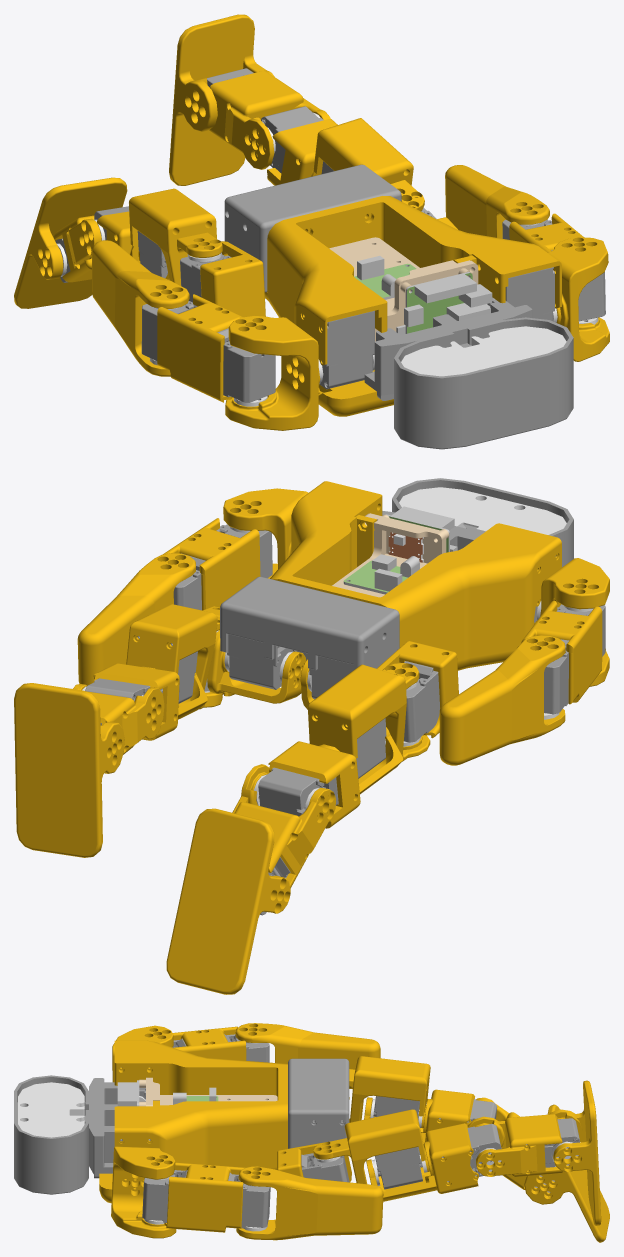
The model's file is zeroth01-opus-v-cbb18739.glb.
The picture shows the model from 3 angles, top to bottom: view 1: azimuth 30°, elevation 25°; view 2: azimuth 150°, elevation 25°; view 3: azimuth 270°, elevation 25°; orthographic projection. The views are drawn at different scales.
Visible parts, largest first — view 1: Torso, Head, foot_left, shoulder_yaw_right, hip_pitch_dual_carry, foot_right, Left Hand, elbow_bracket_left, ankle_pitch_left, hip_roll_right, hand_right, Mounting Back plate (+18 smaller); view 2: Torso, foot_left, foot_right, hip_pitch_dual_carry, Left Hand, knee_pitch_right (×2), hip_roll_right, hand_right, hip_roll_left, ankle_pitch_right, elbow_bracket_right, Mounting Back plate (+21 smaller); view 3: Torso, hand_right, knee_pitch_right (×2), hip_pitch_dual_carry, Head, elbow_bracket_right, ankle_pitch_left, shoulder_yaw_left, hip_roll_left, Left Hand, hip_roll_right, Mounting Back plate (+19 smaller).
Boxes of the visible parts, x1=… form: Torso: x1=264, y1=196, x2=561, y2=416; Head: x1=394, y1=317, x2=573, y2=449; foot_left: x1=169, y1=14, x2=274, y2=185; shoulder_yaw_right: x1=225, y1=315, x2=320, y2=430; hip_pitch_dual_carry: x1=224, y1=164, x2=401, y2=292; foot_right: x1=14, y1=177, x2=127, y2=308; Left Hand: x1=92, y1=240, x2=189, y2=376; elbow_bracket_left: x1=157, y1=294, x2=242, y2=402; ankle_pitch_left: x1=208, y1=70, x2=330, y2=169; hip_roll_right: x1=129, y1=188, x2=222, y2=285; hand_right: x1=445, y1=165, x2=549, y2=238; Mounting Back plate: x1=401, y1=326, x2=566, y2=376; Torso: x1=270, y1=481, x2=561, y2=670; foot_left: x1=14, y1=683, x2=124, y2=857; foot_right: x1=166, y1=808, x2=290, y2=994; hip_pitch_dual_carry: x1=220, y1=576, x2=399, y2=669; Left Hand: x1=439, y1=635, x2=565, y2=765; knee_pitch_right (×2): x1=93, y1=663, x2=403, y2=828; hip_roll_right: x1=307, y1=663, x2=430, y2=761; hand_right: x1=77, y1=553, x2=195, y2=685; hip_roll_left: x1=126, y1=604, x2=222, y2=709; ankle_pitch_right: x1=232, y1=764, x2=335, y2=888; elbow_bracket_right: x1=163, y1=518, x2=260, y2=610; Mounting Back plate: x1=399, y1=487, x2=566, y2=534; Torso: x1=99, y1=1040, x2=287, y2=1203; hand_right: x1=236, y1=1166, x2=383, y2=1240; knee_pitch_right (×2): x1=364, y1=1089, x2=478, y2=1201; hip_pitch_dual_carry: x1=288, y1=1058, x2=349, y2=1148; Head: x1=14, y1=1075, x2=88, y2=1194; elbow_bracket_right: x1=164, y1=1162, x2=245, y2=1232; ankle_pitch_left: x1=467, y1=1114, x2=563, y2=1176; shoulder_yaw_left: x1=111, y1=1146, x2=176, y2=1238; hip_roll_left: x1=313, y1=1109, x2=426, y2=1184; Left Hand: x1=235, y1=1023, x2=380, y2=1088; hip_roll_right: x1=349, y1=1056, x2=430, y2=1122; Mounting Back plate: x1=18, y1=1082, x2=84, y2=1137.
Size of the model in its own units: 0.2659 by 0.1599 by 0.4331.
